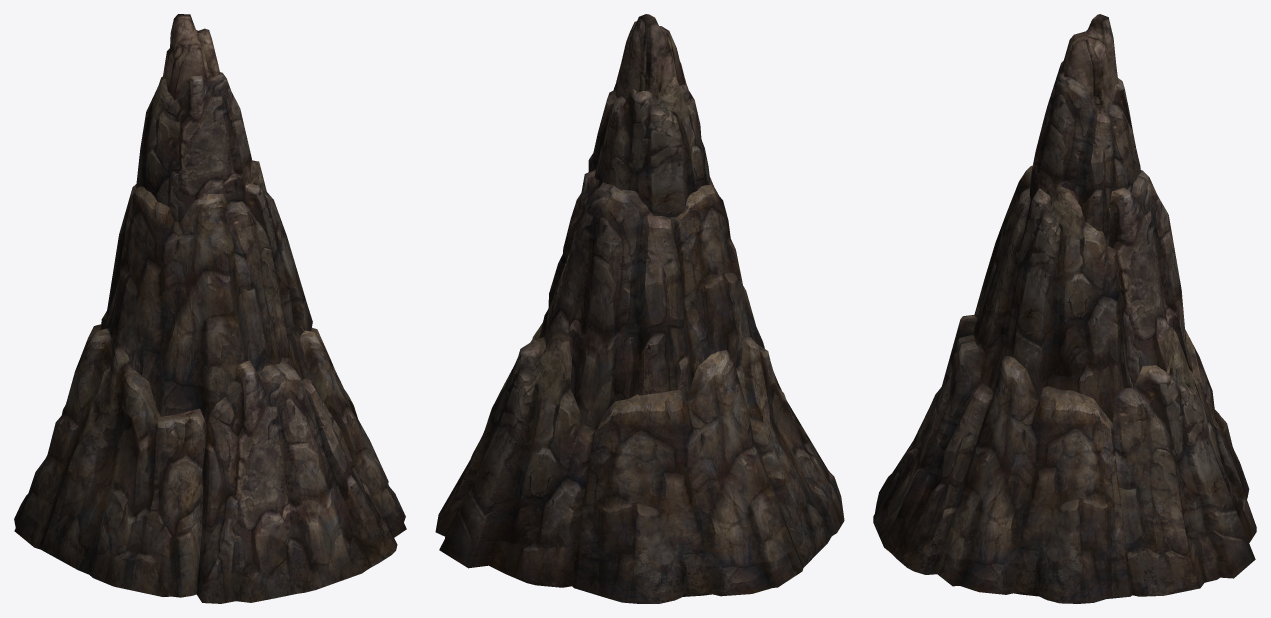
The model's file is bal_env_spire_01.glb.
3 views of the same model, side by side, from view 1: azimuth 30°, elevation 25°; view 2: azimuth 150°, elevation 25°; view 3: azimuth 270°, elevation 25° (orthographic). The views are drawn at different scales.
Parts seen in each view (by area): view 1: bal_env_spire_01; view 2: bal_env_spire_01; view 3: bal_env_spire_01.
Part boxes in pixels (x1,y1,x2,y2): bal_env_spire_01: (14,14,406,603); bal_env_spire_01: (435,14,844,603); bal_env_spire_01: (873,14,1256,603).
Bounding box in the file's own units: 17.24 × 24.46 × 17.1.
1 material, 1 textured.
